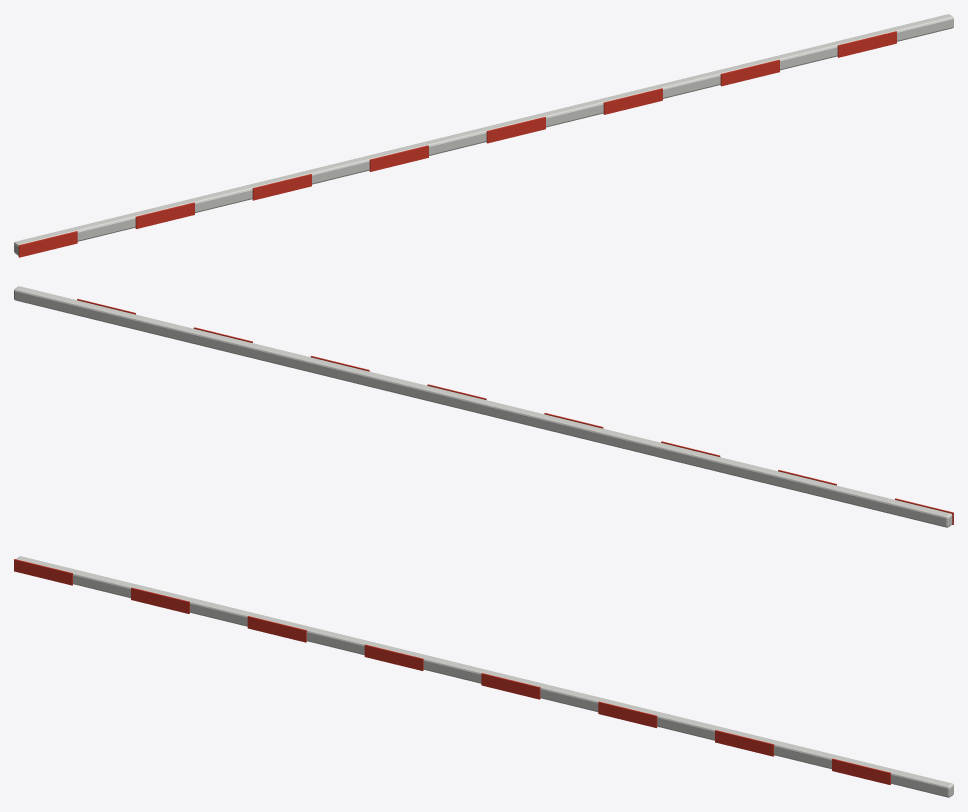
File: bridge-gate-s05.glb
3 views of the same model, one above another, from view 1: azimuth 30°, elevation 25°; view 2: azimuth 150°, elevation 25°; view 3: azimuth 330°, elevation 25° (orthographic).
Visible parts, largest first — view 1: bridge-gate_white, bridge-gate_red; view 2: bridge-gate_white, bridge-gate_red; view 3: bridge-gate_white, bridge-gate_red.
Part boxes in pixels (box(x1,y1,x2,y2)): bridge-gate_white: box(14, 14, 953, 255); bridge-gate_red: box(18, 31, 896, 257); bridge-gate_white: box(14, 286, 952, 527); bridge-gate_red: box(77, 299, 953, 524); bridge-gate_white: box(16, 556, 953, 797); bridge-gate_red: box(14, 559, 890, 784).
Size of the model in its own units: 16 by 0.195 by 0.181.
